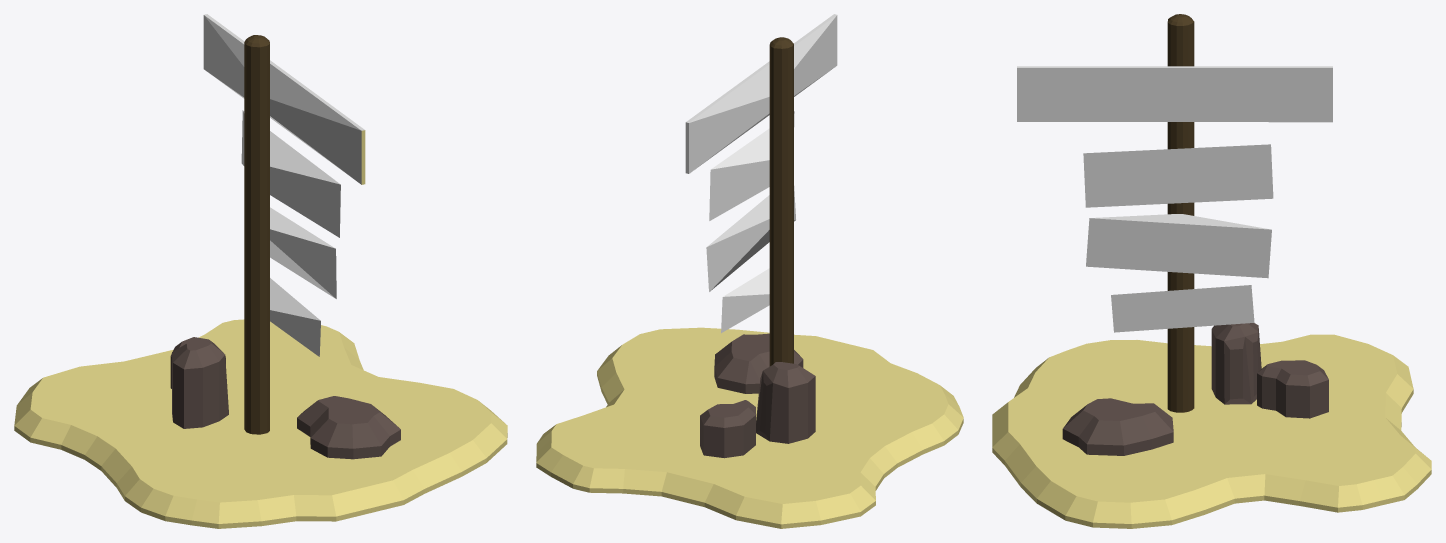
File: FishSign.glb
The picture shows the model from 3 angles, left to right: view 1: azimuth 30°, elevation 25°; view 2: azimuth 150°, elevation 25°; view 3: azimuth 270°, elevation 25°; orthographic projection. The views are drawn at different scales.
Parts seen in each view (by area): view 1: Cube; view 2: Cube; view 3: Cube.
Boxes of the visible parts, x1,y1,x2,y2 form: Cube: (14, 14, 507, 528); Cube: (536, 14, 963, 528); Cube: (992, 14, 1431, 528).
Bounding box in the file's own units: 7.25 × 7.64 × 7.41.
